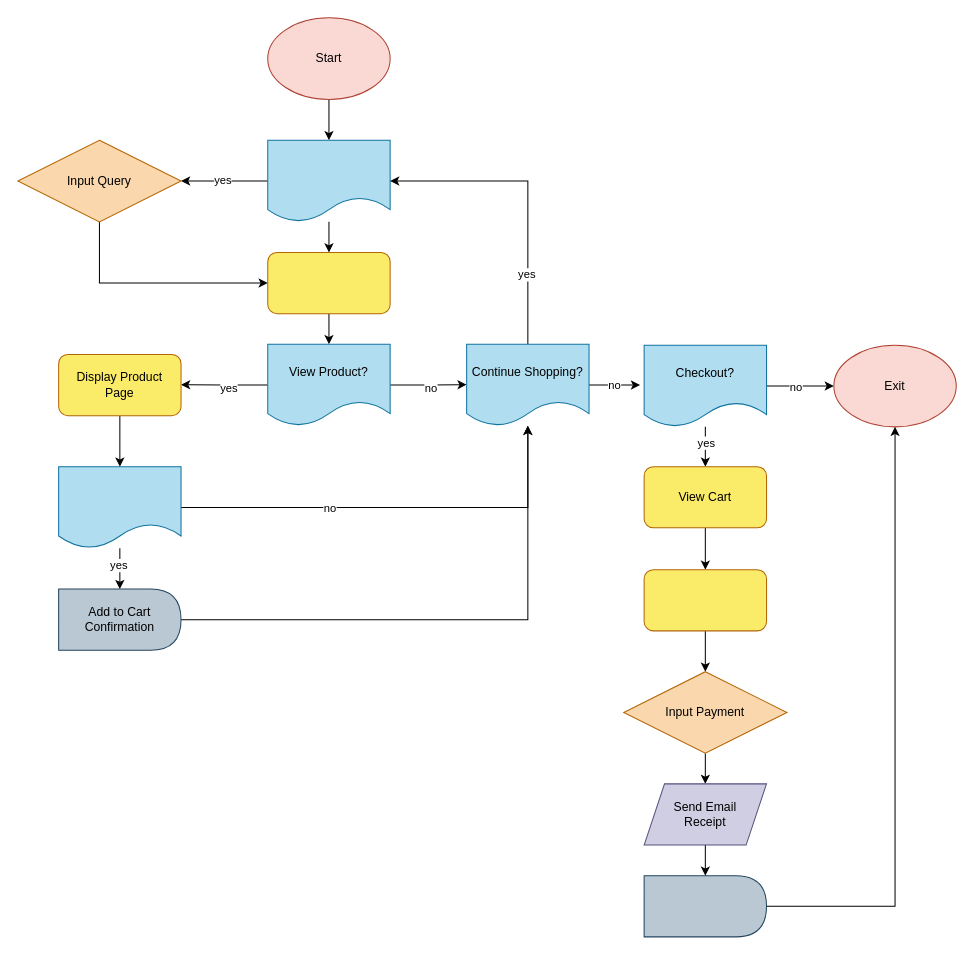
The diagram is 974 pixels wide and 955 high, and some of its shapes have lost their labels. Here are the shapes that lost their labels. From the top down, the box of each, then its label:
(267, 139, 390, 222): Search?
(267, 251, 390, 314): Display Products
(58, 466, 181, 548): Add to cart?
(643, 569, 767, 631): View Payment
(643, 875, 767, 937): Order Confirmation
